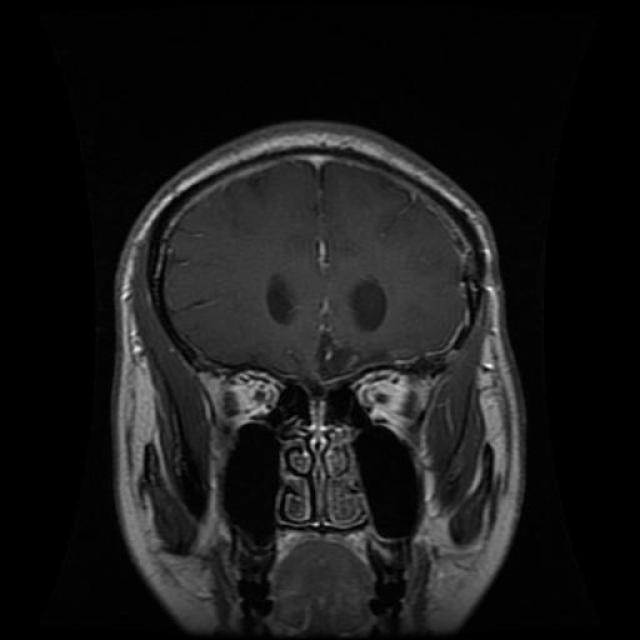glioma: (350, 278, 390, 334)
